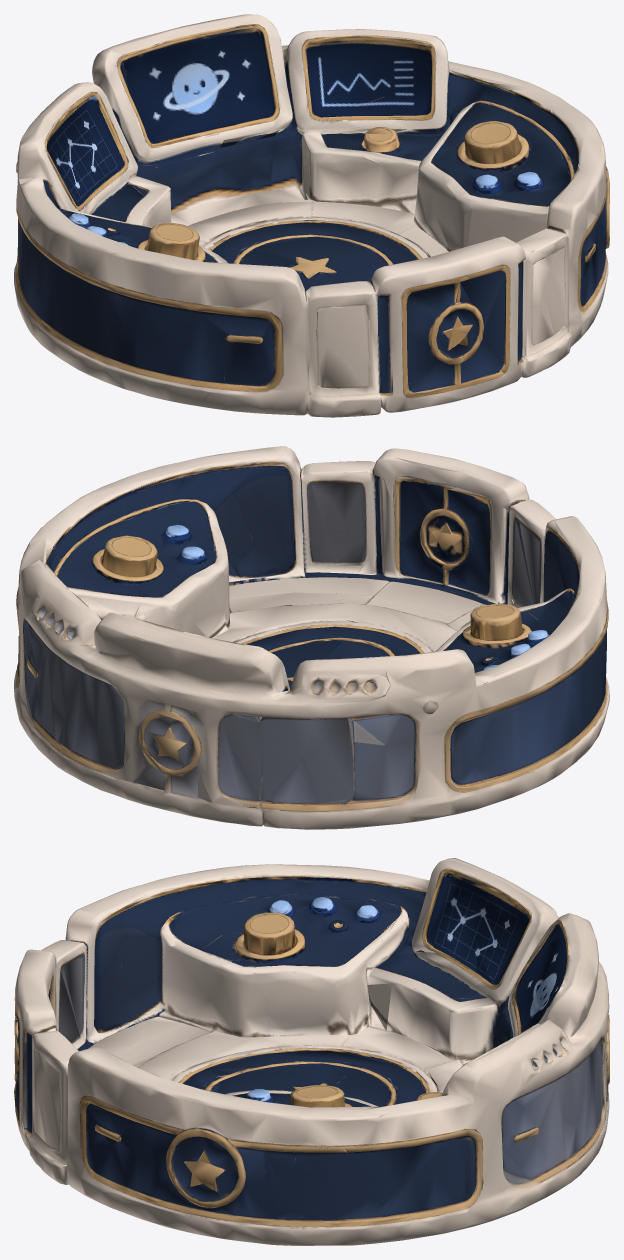
The model's file is console-model-candidate-03.glb.
3 renders of one model, top to bottom at view 1: azimuth 30°, elevation 25°; view 2: azimuth 150°, elevation 25°; view 3: azimuth 270°, elevation 25°, orthographic.
Parts seen in each view (by area): view 1: mesh_node; view 2: mesh_node; view 3: mesh_node.
Boxes of the visible parts, left/top/right/bottom form: mesh_node: left=14, top=14, right=609, bottom=417; mesh_node: left=14, top=446, right=609, bottom=829; mesh_node: left=14, top=858, right=609, bottom=1245.
Bounding box in the file's own units: 2 × 0.6234 × 1.97.
Materials: 1 (1 with a texture image).
